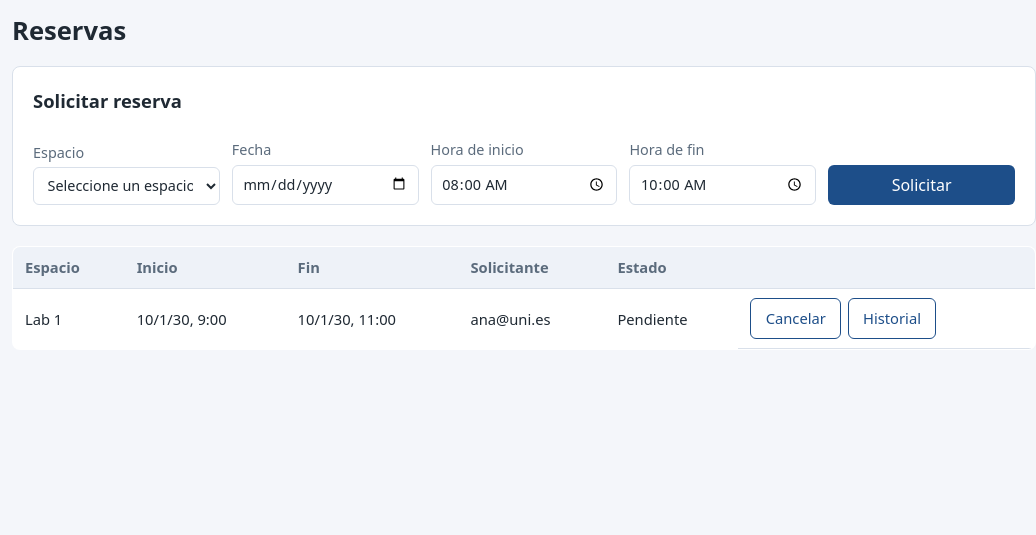
Test case: ReservasPage › carga el historial de una reserva al pulsar Historial
Check: the text "Lab 1" is shown, box [12,288,125,350]
Click the button "Historial": click(892, 319) [848,298,936,339]
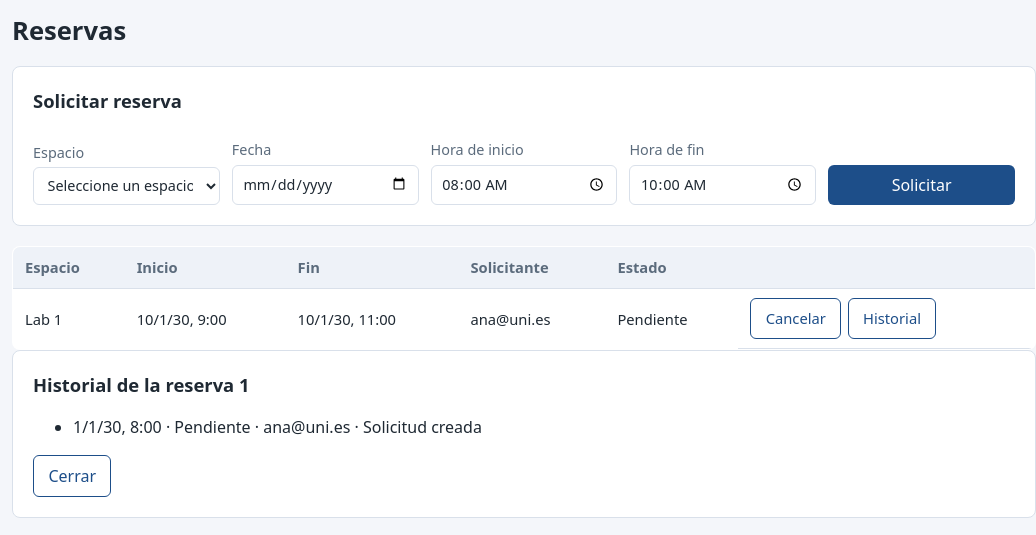
Check: the heading "Historial de la reserva 1" is shown, box [33,372,250,397]
Check: the list item "1/1/30, 8:00 · Pendiente · ana@uni.es · Solicitud creada" is shown, box [73,416,482,438]
